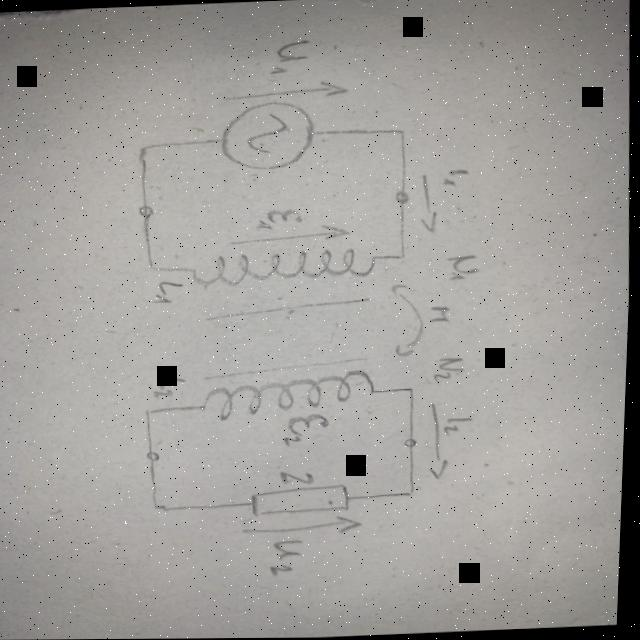junction: (135, 142, 152, 156), (142, 405, 159, 419), (144, 258, 160, 272), (155, 500, 170, 513), (407, 485, 422, 498), (394, 127, 409, 139), (404, 384, 419, 396), (396, 251, 410, 261)
resistor: (251, 481, 356, 518)
source: (218, 98, 321, 174)
text: (264, 36, 315, 80), (283, 410, 336, 447), (270, 534, 313, 577), (252, 206, 309, 231), (154, 373, 194, 401), (447, 251, 483, 282), (150, 277, 188, 305), (434, 355, 470, 383), (439, 164, 476, 190), (445, 414, 479, 436), (276, 470, 320, 487), (431, 303, 456, 323)
transformer: (189, 245, 386, 422)
